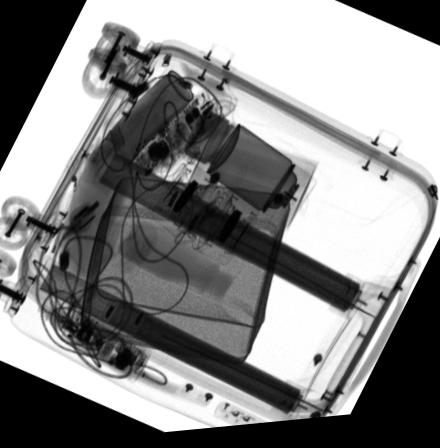Sprayer: (205, 126, 318, 233)
